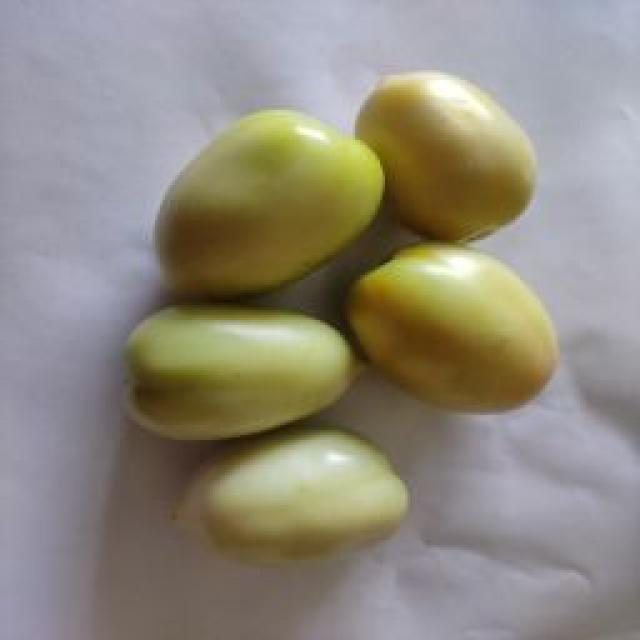tomato: (154, 110, 385, 293), (347, 244, 558, 415), (122, 302, 356, 442), (182, 427, 408, 567), (357, 71, 538, 242)
